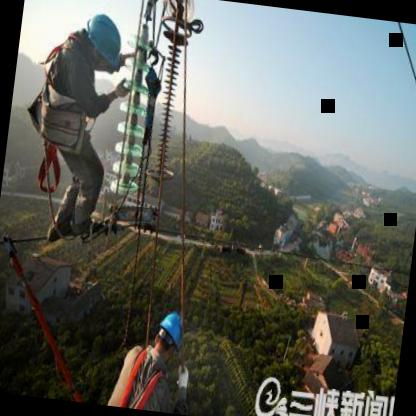helmet: (73, 9, 127, 75), (152, 308, 185, 362)
